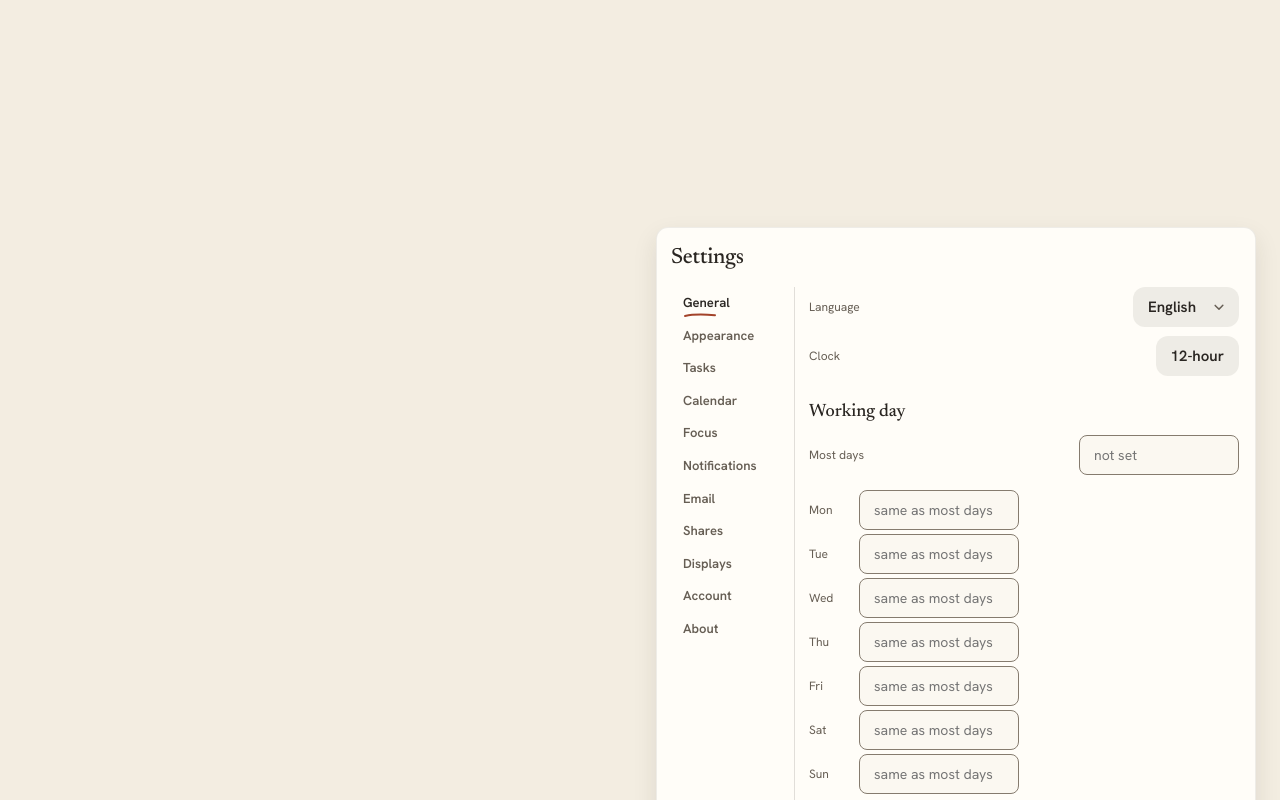
Test: <SettingsMenu> under Field notes › removes the hints from Calendar and Tasks, and keeps the note that syncs
The width and height of the screenshot is (1280, 800).
(page scrolled)
Click the tab "Calendar" at (728, 401), box [671,385,786,416]
(page scrolled)
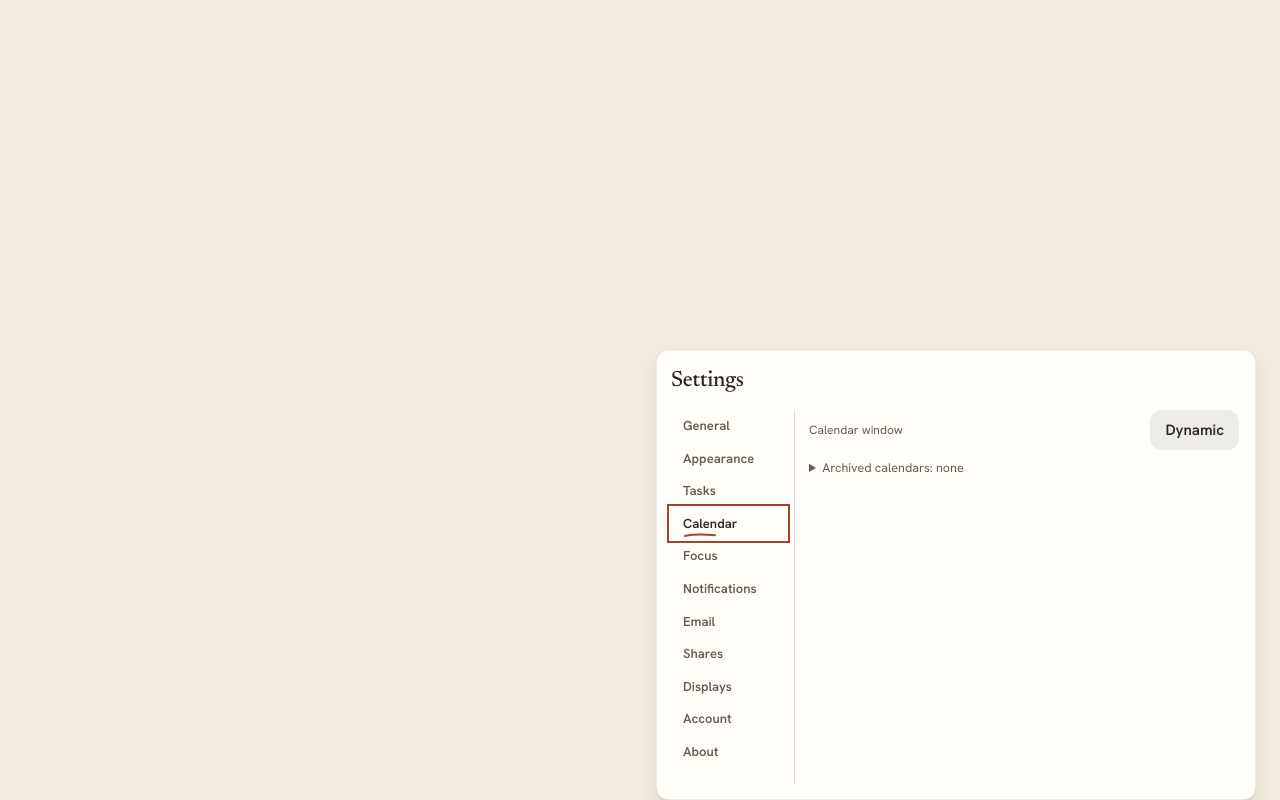
Result: the button with aria-label "Fixed or dynamic calendar grid" is shown at [1150,410,1239,450]
Click the tab "Tasks" at (728, 491), box [671,475,786,507]
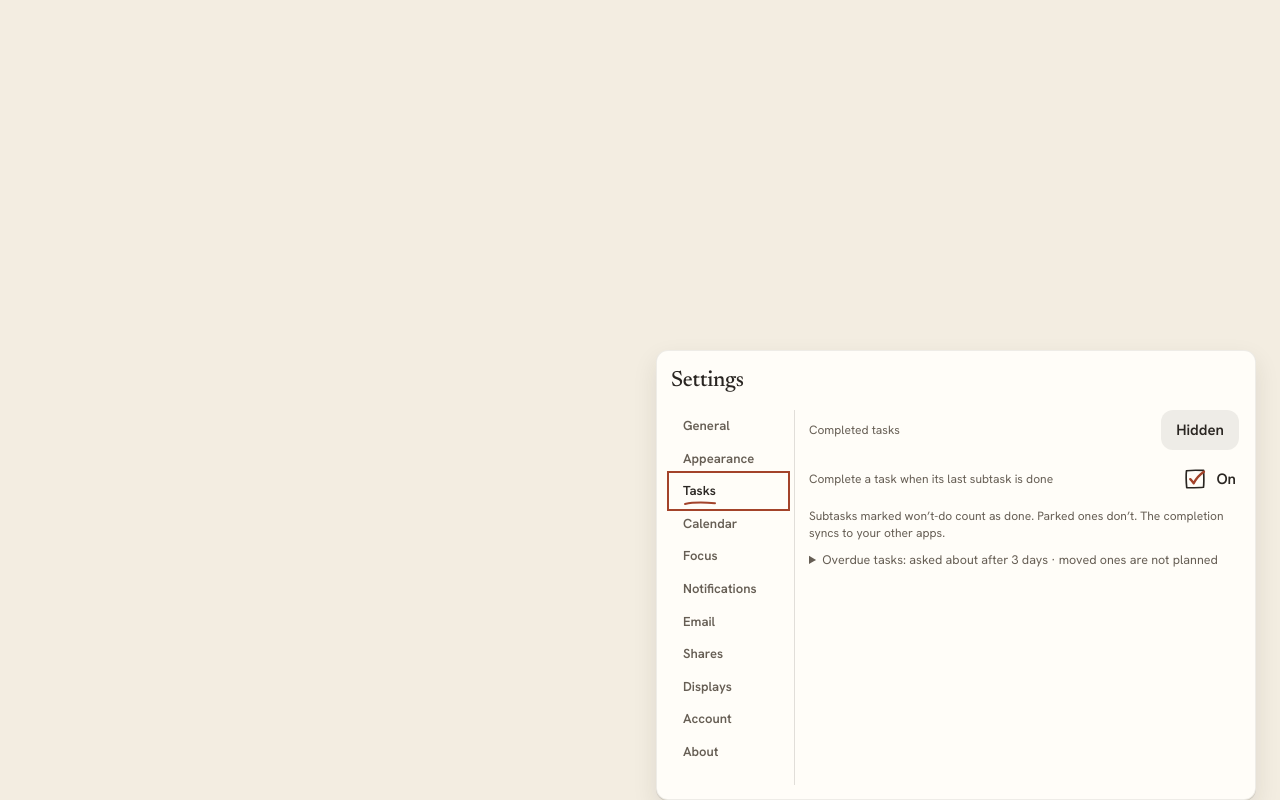
Result: the text "syncs to your other apps" is shown at [809,508,1224,541]
